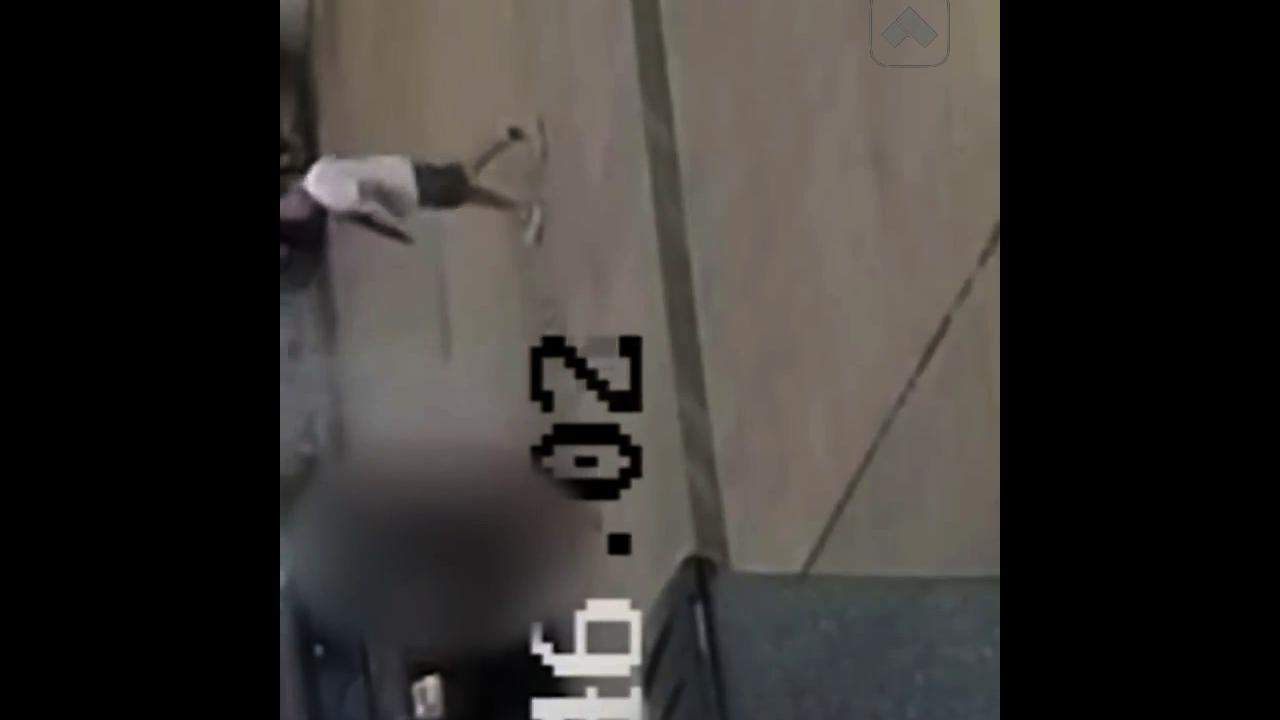gun: (344, 207, 414, 246)
